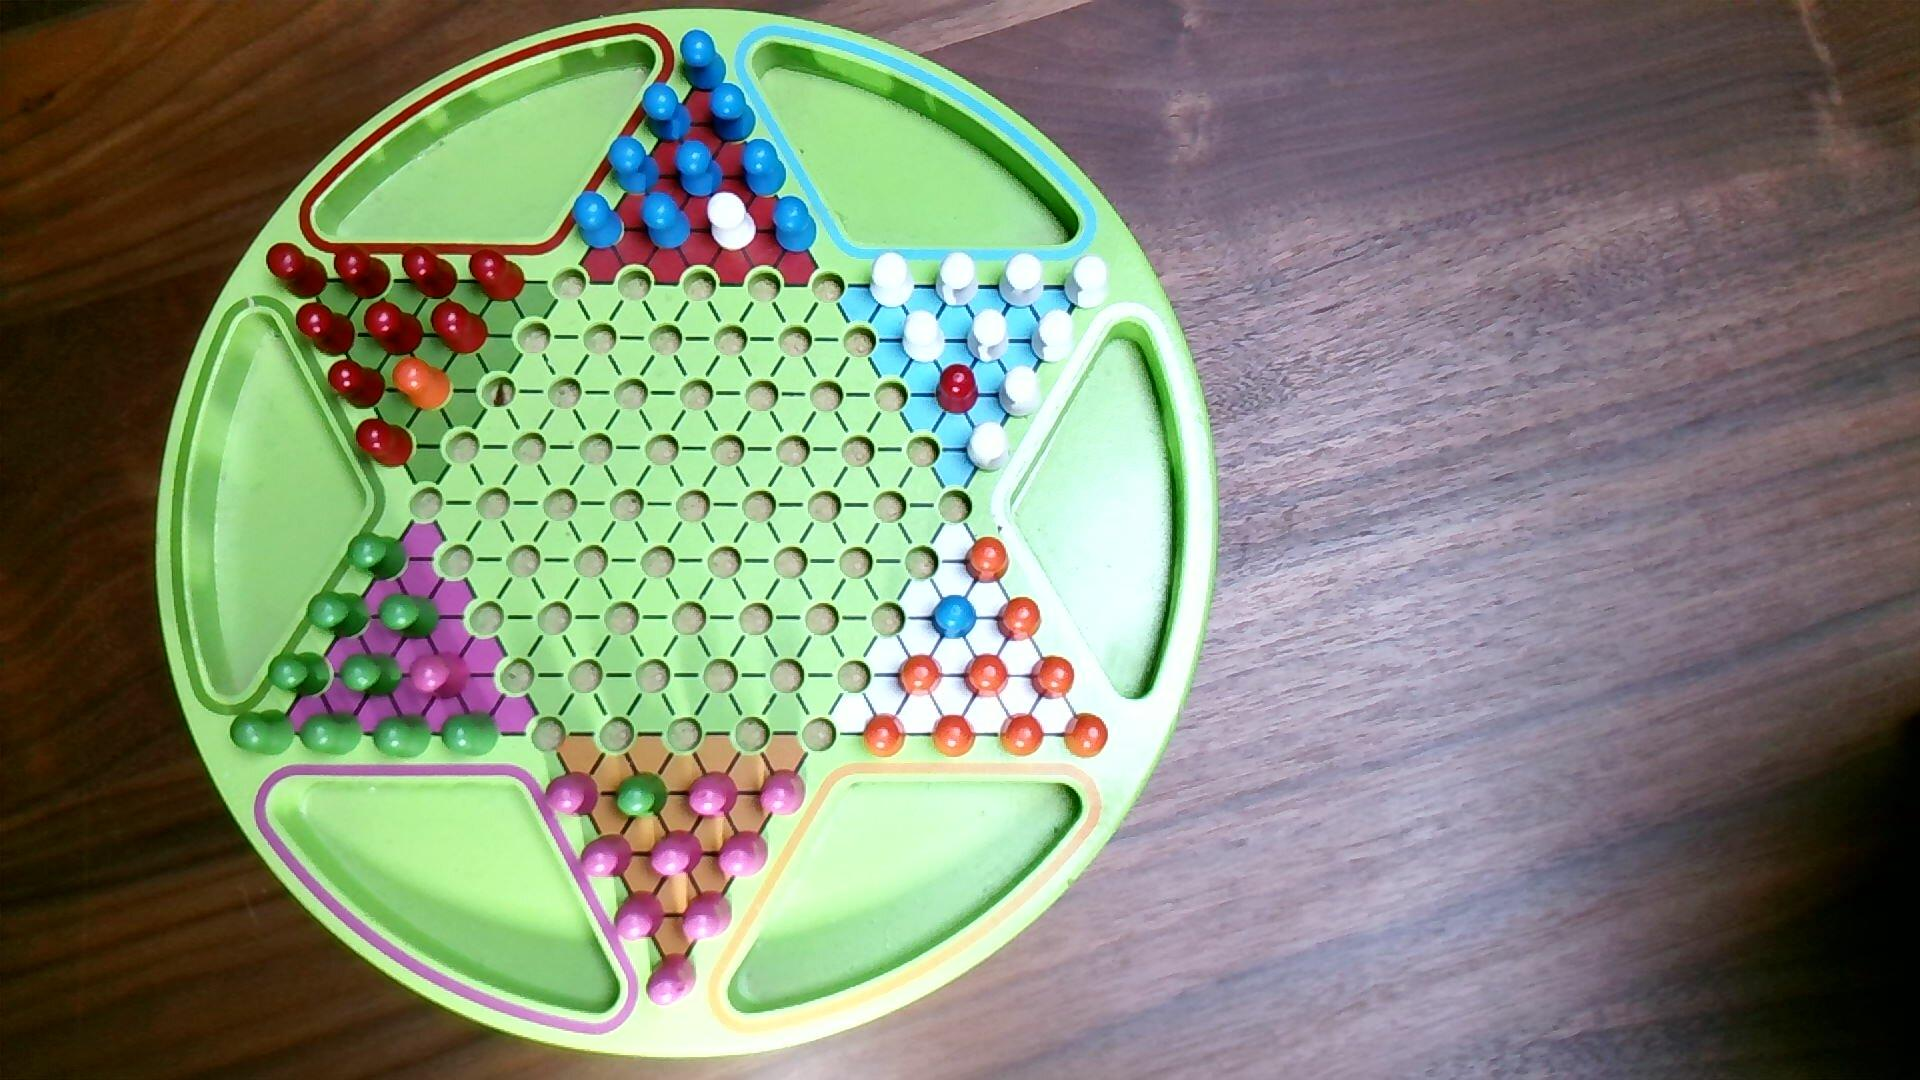B: (676, 28, 731, 94), (607, 135, 662, 198), (570, 189, 625, 252), (638, 189, 694, 252), (640, 80, 694, 145), (705, 82, 760, 145), (673, 138, 727, 200), (738, 137, 789, 200), (771, 194, 820, 255), (928, 593, 978, 642)
G: (345, 530, 411, 585), (305, 589, 373, 642), (228, 708, 297, 760), (376, 592, 444, 644), (297, 711, 367, 760), (266, 650, 334, 700), (338, 651, 405, 700), (371, 713, 436, 762), (439, 709, 502, 760), (612, 770, 671, 822)
O: (392, 356, 455, 413), (961, 651, 1011, 700), (963, 535, 1011, 585), (998, 711, 1047, 760), (996, 596, 1044, 645), (861, 711, 909, 760), (1062, 712, 1110, 760), (1029, 654, 1077, 702), (930, 713, 978, 760), (895, 653, 945, 698)
R: (265, 243, 331, 303), (429, 298, 491, 357), (363, 299, 426, 357), (334, 243, 394, 302), (295, 301, 357, 359), (467, 247, 527, 305), (400, 245, 462, 302), (353, 417, 417, 469), (327, 357, 388, 411), (934, 363, 981, 417)
R2: (407, 651, 472, 702), (644, 952, 699, 1009), (612, 889, 667, 943), (679, 889, 735, 943), (647, 828, 705, 880), (715, 829, 771, 881), (684, 770, 741, 822), (543, 770, 603, 819), (756, 767, 808, 819), (578, 833, 636, 880)
W: (705, 190, 760, 253), (868, 251, 916, 311), (1062, 255, 1112, 313), (934, 251, 981, 310), (998, 251, 1046, 310), (963, 309, 1011, 365), (1030, 309, 1077, 367), (899, 310, 947, 367), (964, 422, 1014, 475), (997, 365, 1044, 419)
